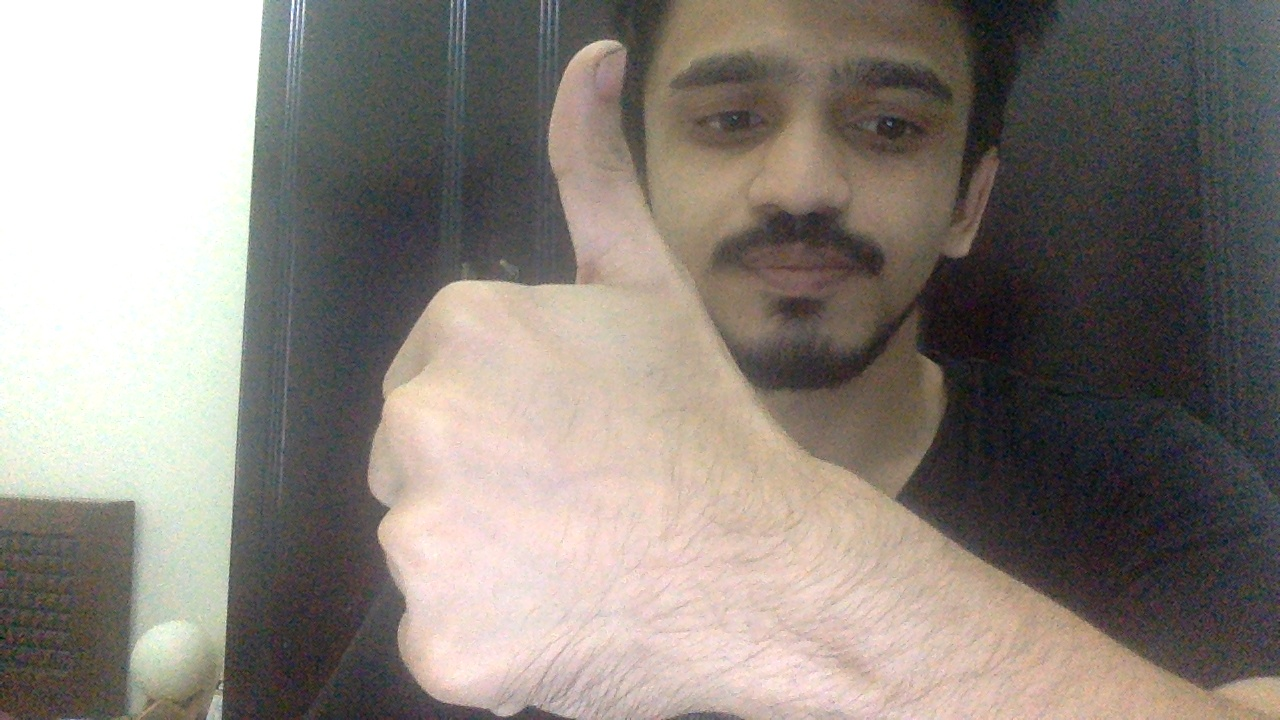good: (366, 35, 795, 713)
